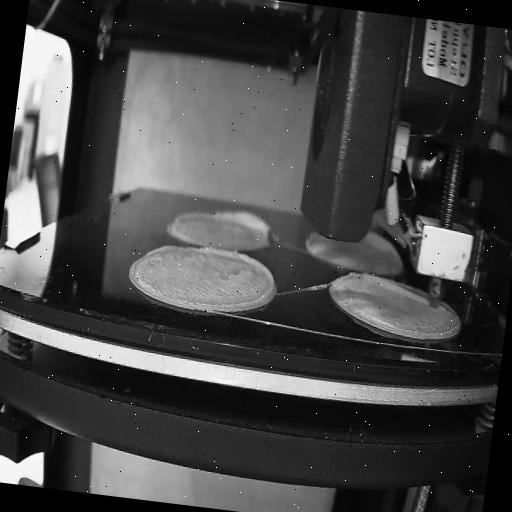over_extrusion: (190, 242, 278, 316), (211, 200, 278, 244), (356, 270, 432, 304), (145, 240, 182, 264), (172, 206, 208, 230)
